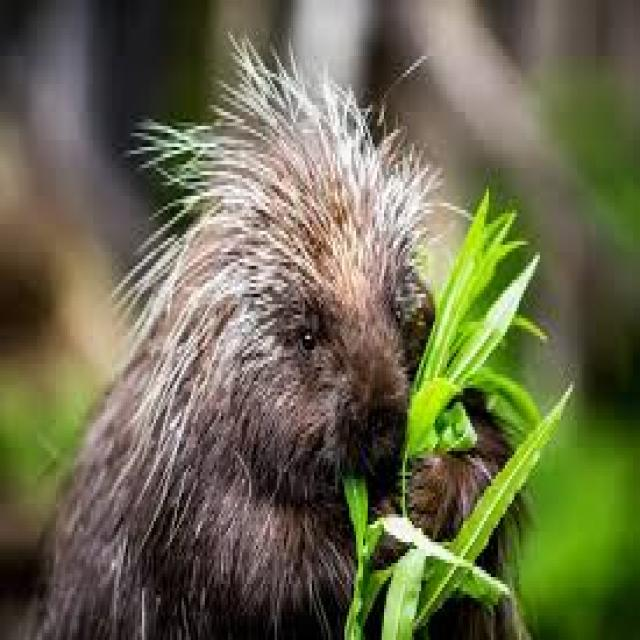Porcupine: (54, 50, 442, 640)
